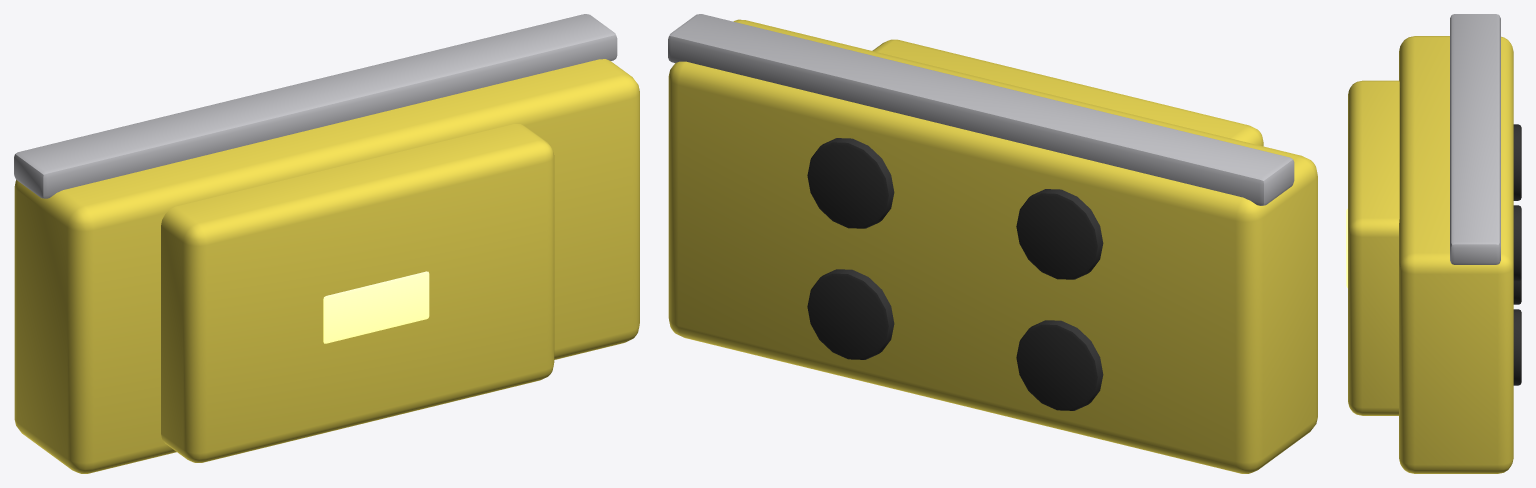
File: car_taxi.glb
3 renders of one model, left to right at view 1: azimuth 30°, elevation 25°; view 2: azimuth 150°, elevation 25°; view 3: azimuth 270°, elevation 25°, orthographic. The views are drawn at different scales.
Parts seen in each view (by area): view 1: Cabin, LowerBody, Bumper, RoofSign; view 2: LowerBody, Bumper, Cabin, Wheel_-0.3_-0.18, Wheel_0.3_-0.18, Wheel_0.3_0.18, Wheel_-0.3_0.18; view 3: LowerBody, Cabin, Bumper, Wheel_0.3_0.18, Wheel_0.3_-0.18, Wheel_-0.3_0.18, Wheel_-0.3_-0.18.
Boxes of the visible parts, box(x1,y1,x2,y2) form: Cabin: box(161, 124, 554, 462); LowerBody: box(14, 59, 639, 473); Bumper: box(14, 14, 617, 198); RoofSign: box(323, 271, 429, 343); LowerBody: box(668, 19, 1317, 473); Bumper: box(668, 14, 1294, 205); Cabin: box(872, 39, 1263, 146); Wheel_-0.3_-0.18: box(1016, 320, 1103, 410); Wheel_0.3_-0.18: box(807, 269, 894, 359); Wheel_0.3_0.18: box(807, 138, 894, 228); Wheel_-0.3_0.18: box(1016, 189, 1103, 279); LowerBody: box(1399, 36, 1513, 473); Cabin: box(1348, 80, 1399, 415); Bumper: box(1450, 14, 1500, 264); Wheel_0.3_0.18: box(1513, 205, 1521, 281); Wheel_0.3_-0.18: box(1513, 309, 1521, 385); Wheel_-0.3_0.18: box(1513, 124, 1521, 200); Wheel_-0.3_-0.18: box(1513, 279, 1521, 304).
Bounding box in the file's own units: 1.72 × 0.82 × 0.55.
